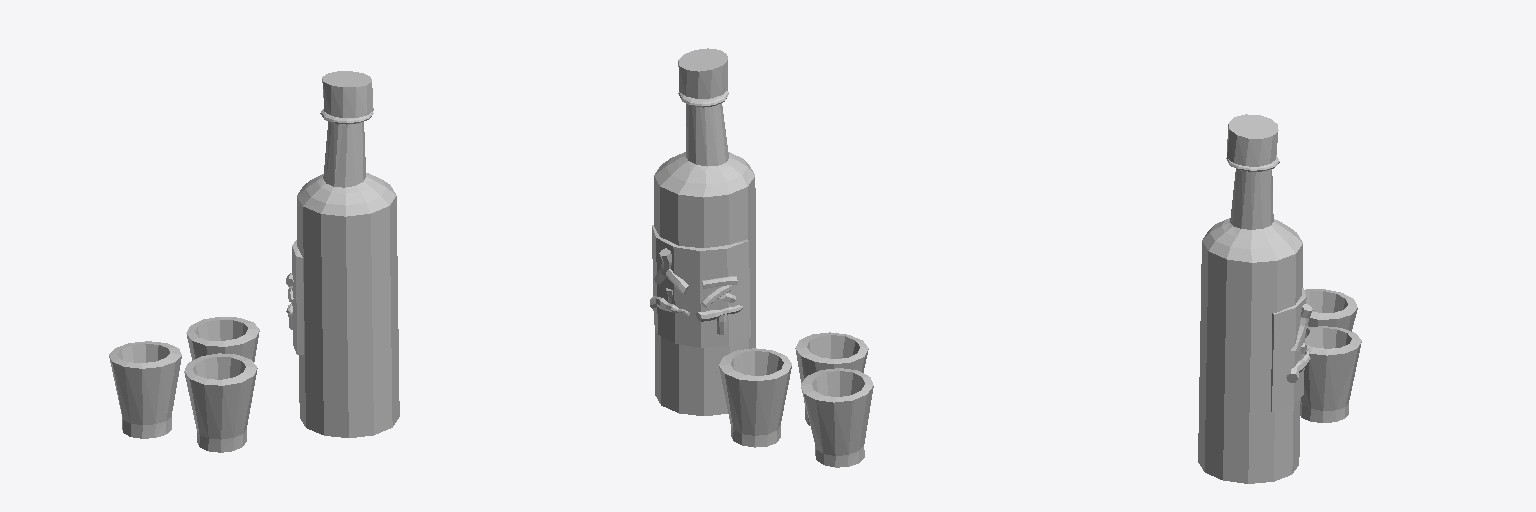
3 renders of one model, left to right at view 1: azimuth 30°, elevation 25°; view 2: azimuth 150°, elevation 25°; view 3: azimuth 270°, elevation 25°, orthographic.
Visible parts, largest first — view 1: group[number redacted], group[number redacted], group[number redacted], group[number redacted], group[number redacted], group[number redacted]; view 2: group[number redacted], group[number redacted], group[number redacted], group[number redacted], group[number redacted], group[number redacted]; view 3: group[number redacted], group[number redacted], group[number redacted], group[number redacted], group[number redacted].
Boxes of the visible parts, <box> form: group[number redacted]: <box>297,121,399,437</box>; group[number redacted]: <box>184,353,257,452</box>; group[number redacted]: <box>109,341,181,438</box>; group[number redacted]: <box>186,317,259,361</box>; group[number redacted]: <box>322,71,373,117</box>; group[number redacted]: <box>292,240,303,354</box>; group[number redacted]: <box>654,103,755,415</box>; group[number redacted]: <box>652,225,750,347</box>; group[number redacted]: <box>719,348,791,447</box>; group[number redacted]: <box>801,368,873,467</box>; group[number redacted]: <box>795,332,868,425</box>; group[number redacted]: <box>678,48,727,98</box>; group[number redacted]: <box>1198,169,1302,483</box>; group[number redacted]: <box>1300,326,1361,422</box>; group[number redacted]: <box>1271,288,1306,411</box>; group[number redacted]: <box>1227,114,1278,166</box>; group[number redacted]: <box>1304,289,1357,331</box>.
Size of the model in its own units: 0.6694 by 0.8931 by 0.3911.